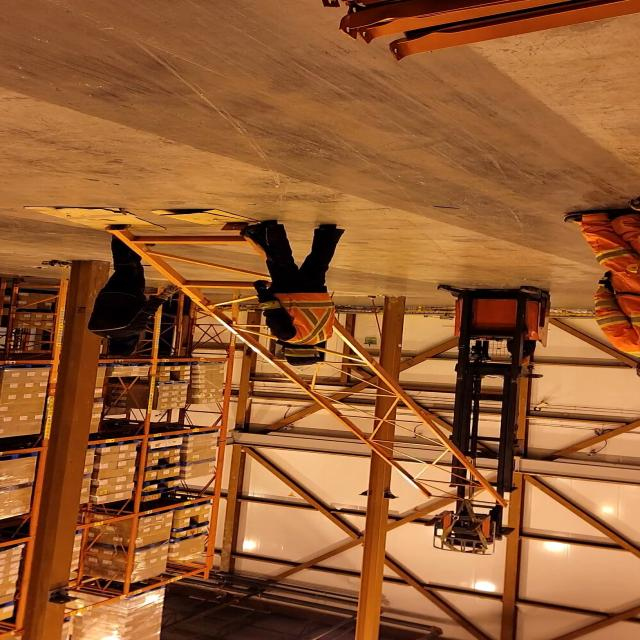forklift: (432, 283, 554, 448)
human: (232, 214, 349, 369), (562, 203, 640, 384), (86, 228, 184, 358), (489, 336, 548, 370)
objectofinterest: (86, 218, 515, 514), (21, 204, 172, 233), (146, 207, 272, 231)
